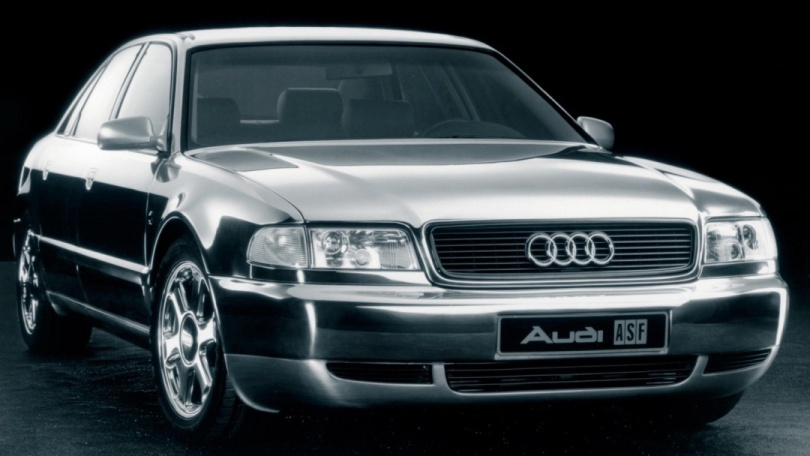audi: (511, 230, 619, 270)
